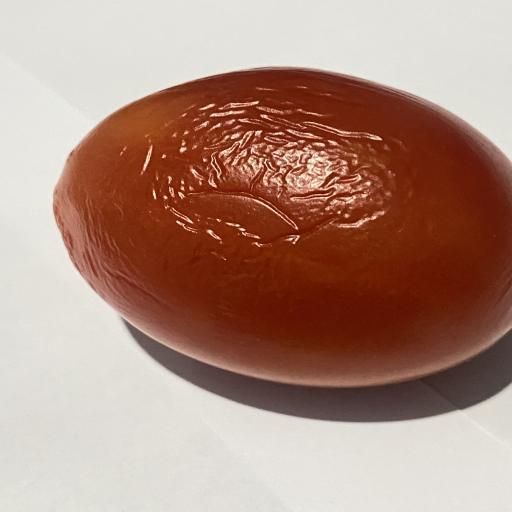spoiled: (54, 68, 512, 387)
